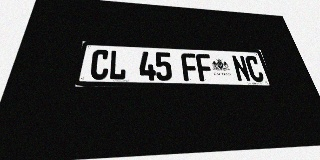4: (139, 51, 156, 81)
5: (155, 52, 173, 81)
C: (89, 49, 110, 80), (244, 56, 265, 82)
F: (195, 54, 215, 81), (181, 53, 199, 81)
L: (108, 50, 127, 80)
N: (231, 55, 252, 82)
